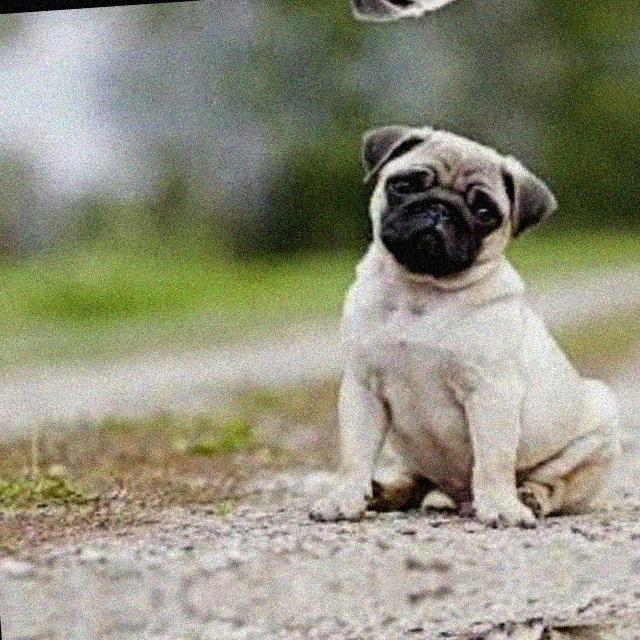dog: (274, 90, 634, 532), (265, 0, 598, 49), (313, 621, 640, 640)
